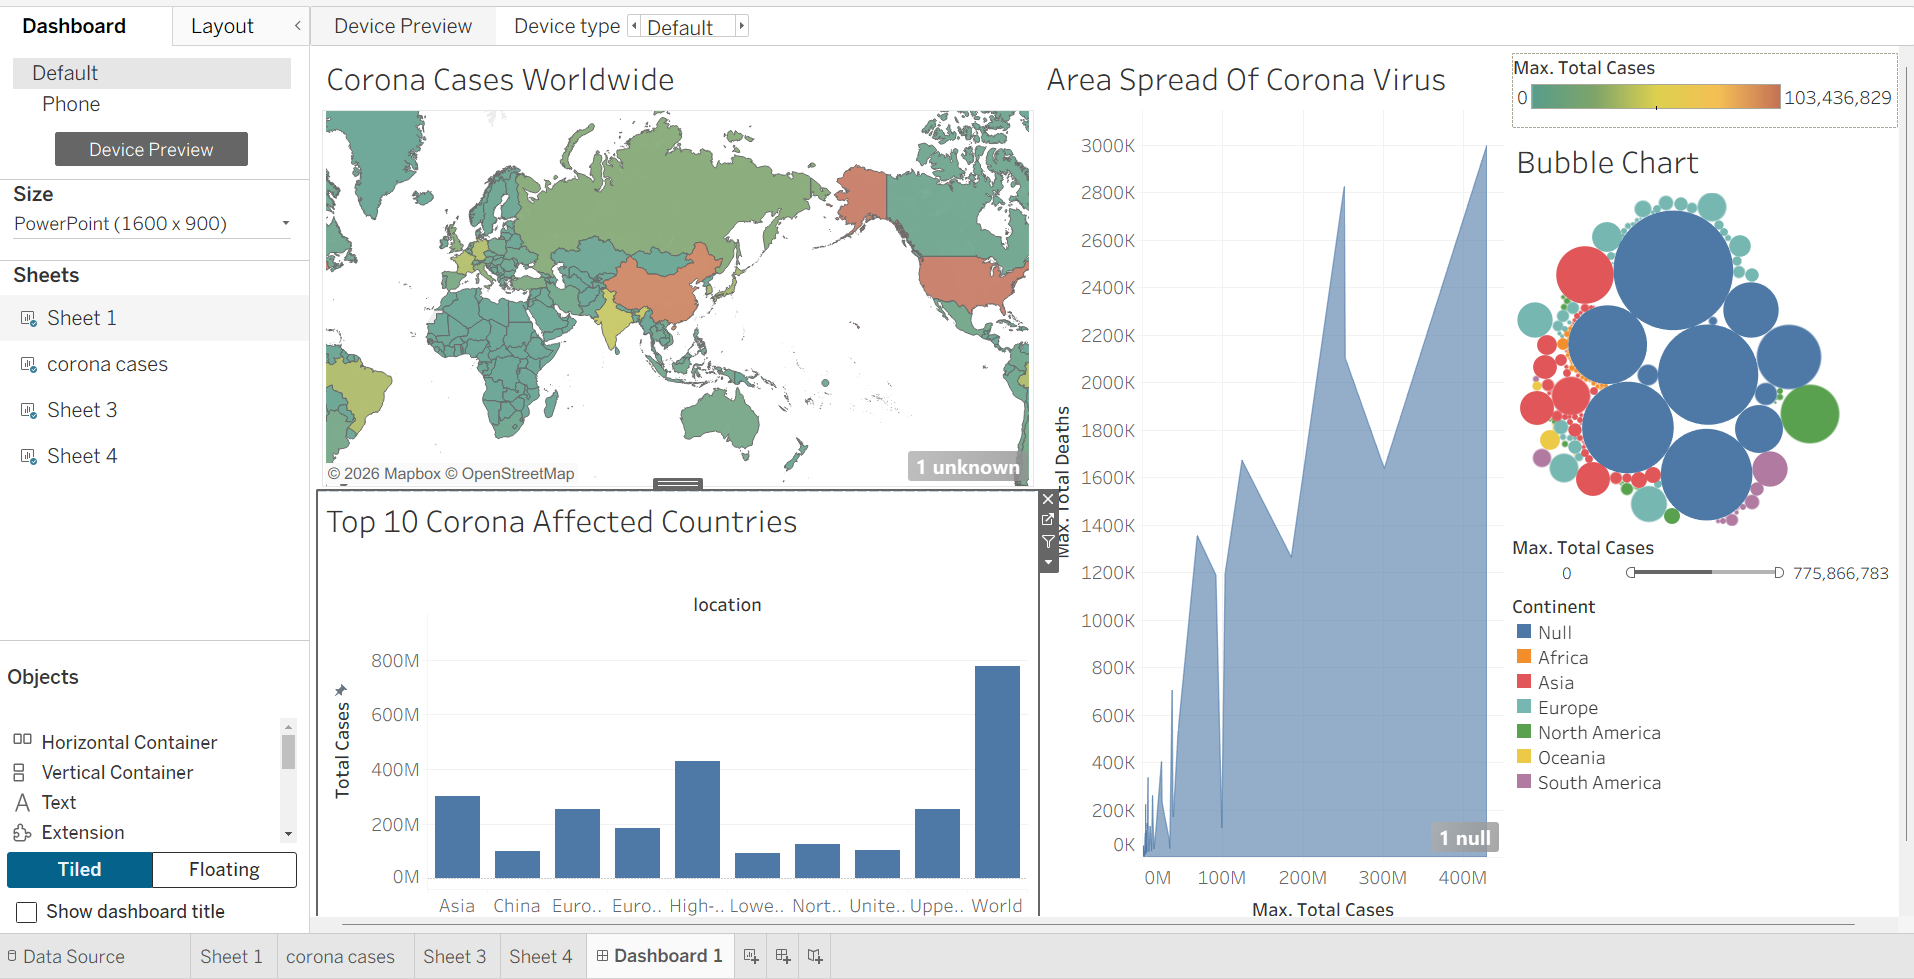

This screenshot's page, from the dashboard's own definition file:
{"tool":"tableau","page":{"name":"Dashboard 1","canvas":[1600,900],"ordinal":0},"visuals":[{"type":"worksheet","title":"corona cases ","mark":"Multipolygon","box":[8,8,720,442]},{"type":"worksheet","title":"Sheet 3","mark":"Area","rows":["total_deaths"],"cols":["total_cases"],"box":[728,8,470,884]},{"type":"legend","title":"corona cases ","param":"[federated.14ebev81hiffhb189k8450jinu21].[max:total_cases:qk]","box":[1198,8,394,83]},{"type":"worksheet","title":"Sheet 4","mark":"Circle","box":[1198,91,394,398]},{"type":"worksheet","title":"Sheet 1","mark":"Automatic","rows":["total_cases"],"cols":["location"],"box":[8,450,720,442]},{"type":"filter","title":"Sheet 4","param":"[federated.14ebev81hiffhb189k8450jinu21].[max:total_cases:qk]","box":[1198,489,394,59]},{"type":"legend","title":"Sheet 4","param":"[federated.14ebev81hiffhb189k8450jinu21].[none:continent:nk]","box":[1198,548,394,209]}]}

Visuals, with their boxes on the page's 1600x900 design canvas (x1, y1, x2, y2). These are canvas units, not pixel positions in the 1914x979 screenshot, which may show the page scaled, cropped or inside an application window:
"corona cases " worksheet (Multipolygon marks): (left=8, top=8, right=728, bottom=450)
"Sheet 3" worksheet (Area marks): (left=728, top=8, right=1198, bottom=892)
"corona cases " legend: (left=1198, top=8, right=1592, bottom=91)
"Sheet 4" worksheet (Circle marks): (left=1198, top=91, right=1592, bottom=489)
"Sheet 1" worksheet: (left=8, top=450, right=728, bottom=892)
"Sheet 4" filter: (left=1198, top=489, right=1592, bottom=548)
"Sheet 4" legend: (left=1198, top=548, right=1592, bottom=757)
